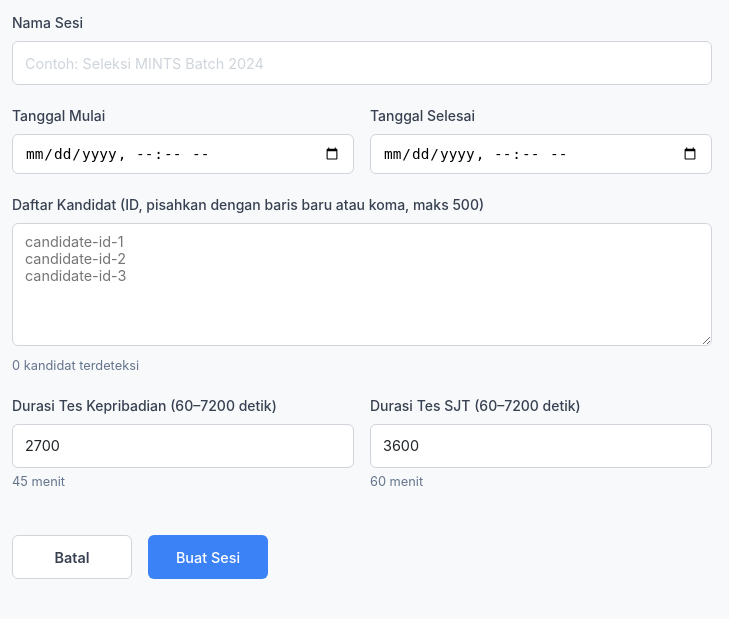
Test: SessionCreationForm › validates timer bounds (60-7200 seconds)
The width and height of the screenshot is (729, 619).
# Fill in required fields
Type "Test Session" into the field labelled "Nama Sesi" at (362,63), box [12, 41, 712, 85]
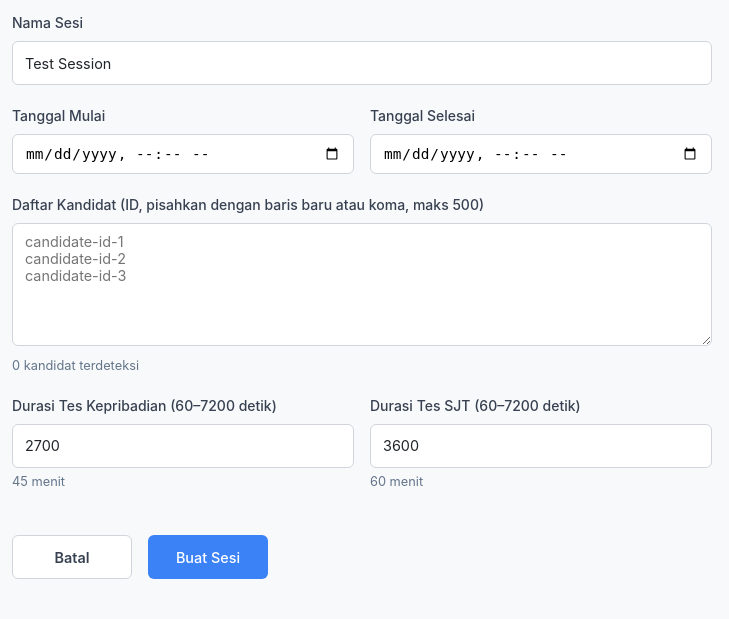
Type "2024-06-15T10:00" into the field labelled "Tanggal Mulai" at (183,154), box [12, 134, 354, 174]
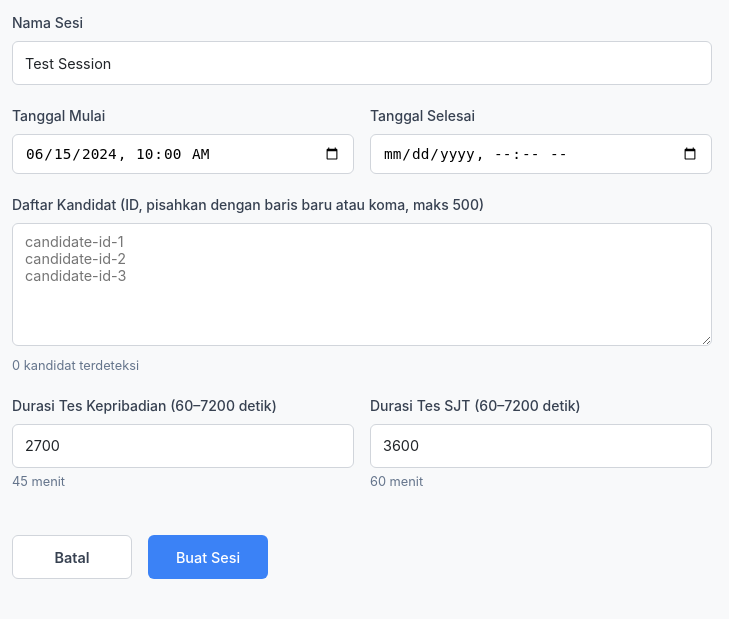
Type "2024-06-20T10:00" into the field labelled "Tanggal Selesai" at (541,154), box [370, 134, 712, 174]
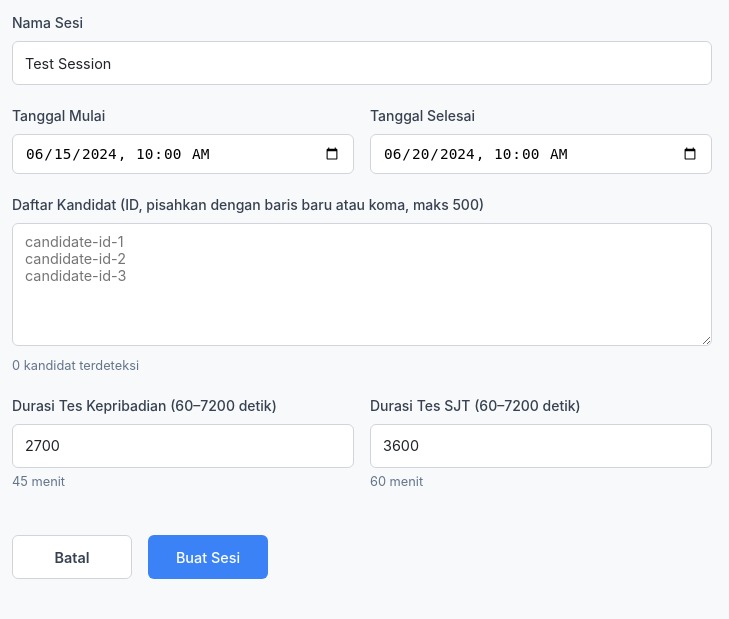
Type "candidate-1" into the text box labelled "Daftar Kandidat" at (362,284), box [12, 223, 712, 346]
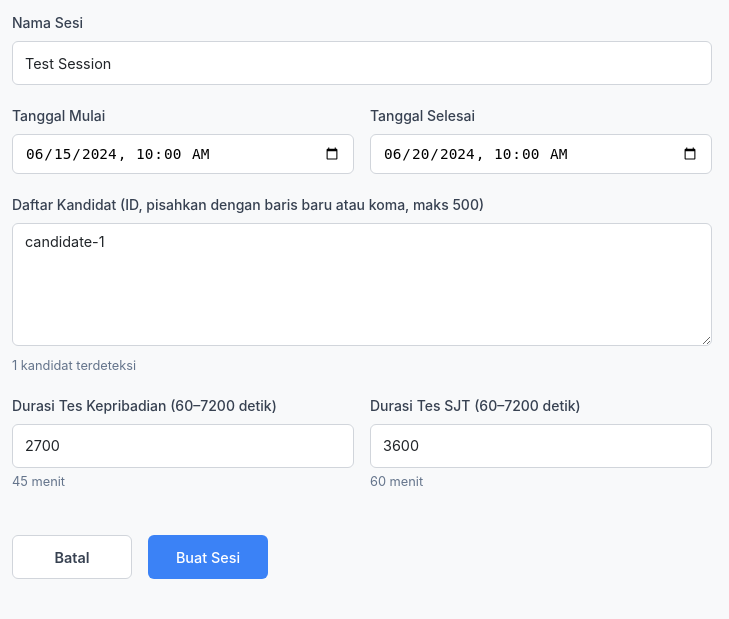
# Set invalid timer value
Replace the text in the number field labelled "Durasi Tes Kepribadian (60–7200 detik)" with "30" at (183,446), box [12, 424, 354, 468]
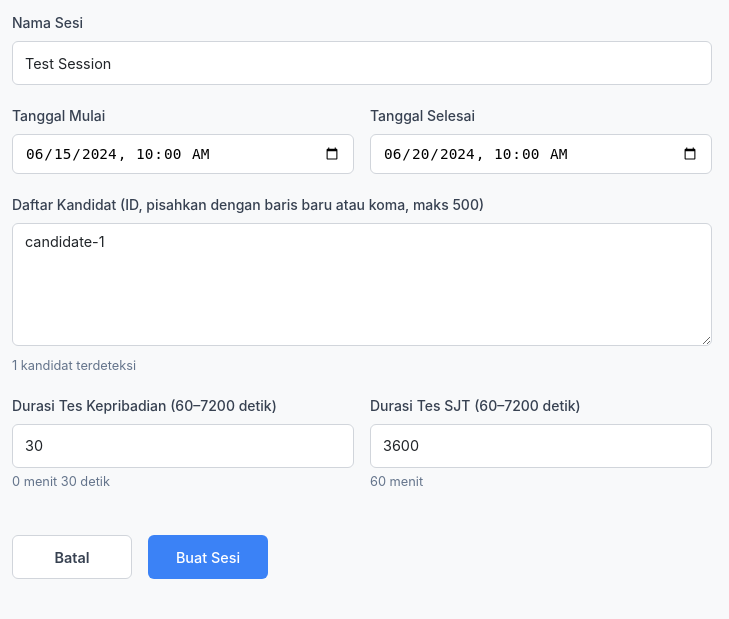
# Submit the form
Submit the form named "Form pembuatan sesi"
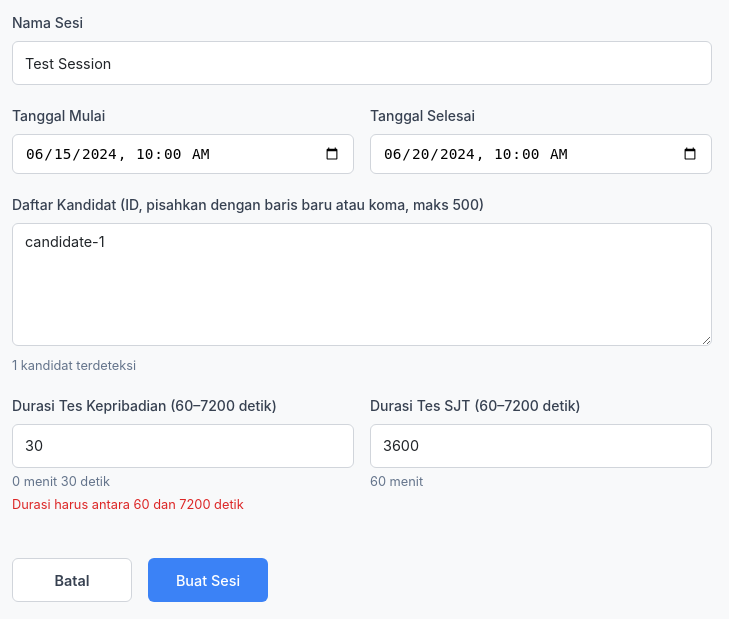
Expected: the text "Durasi harus antara 60 dan 7200 detik" is shown, [12, 497, 244, 512]
